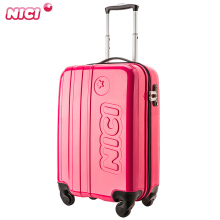luggage: (55, 3, 164, 214)
